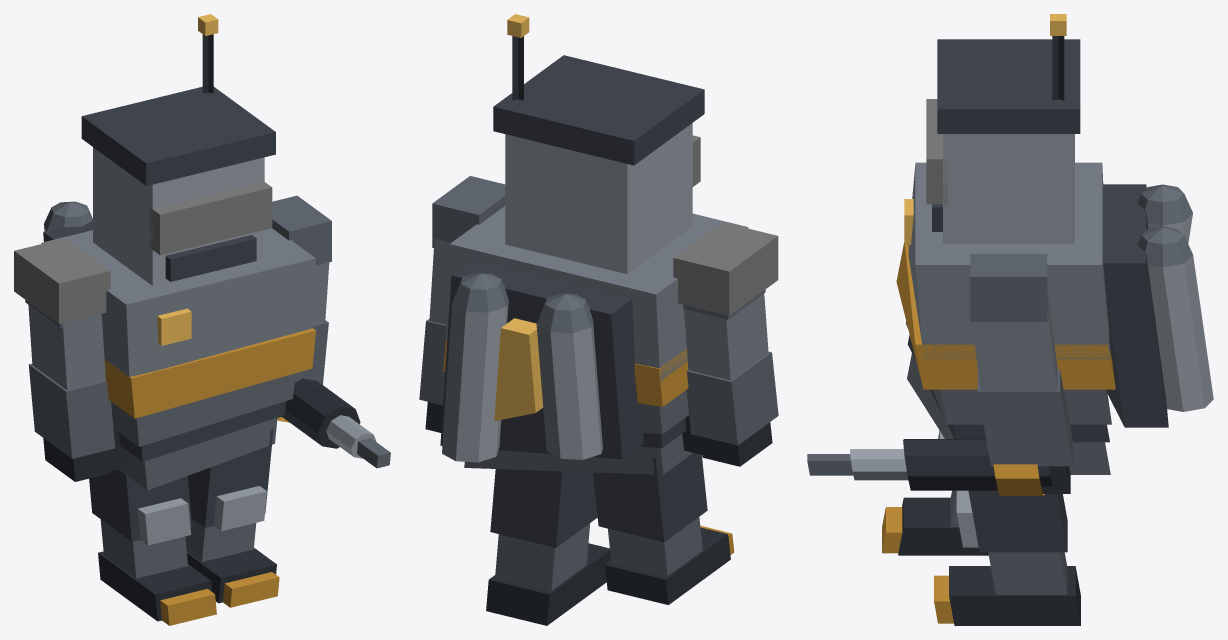
File: engineer-walk-5.obj
The picture shows the model from 3 angles, left to right: view 1: azimuth 30°, elevation 25°; view 2: azimuth 150°, elevation 25°; view 3: azimuth 270°, elevation 25°; orthographic projection. The views are drawn at different scales.
Parts seen in each view (by area): view 1: engineer-walk-5; view 2: engineer-walk-5; view 3: engineer-walk-5.
Boxes of the visible parts, x1,y1,x2,y2 form: engineer-walk-5: [14, 14, 390, 625]; engineer-walk-5: [419, 14, 778, 625]; engineer-walk-5: [807, 14, 1213, 625].
Size of the model in its own units: 1.31 by 2.4 by 1.48.
